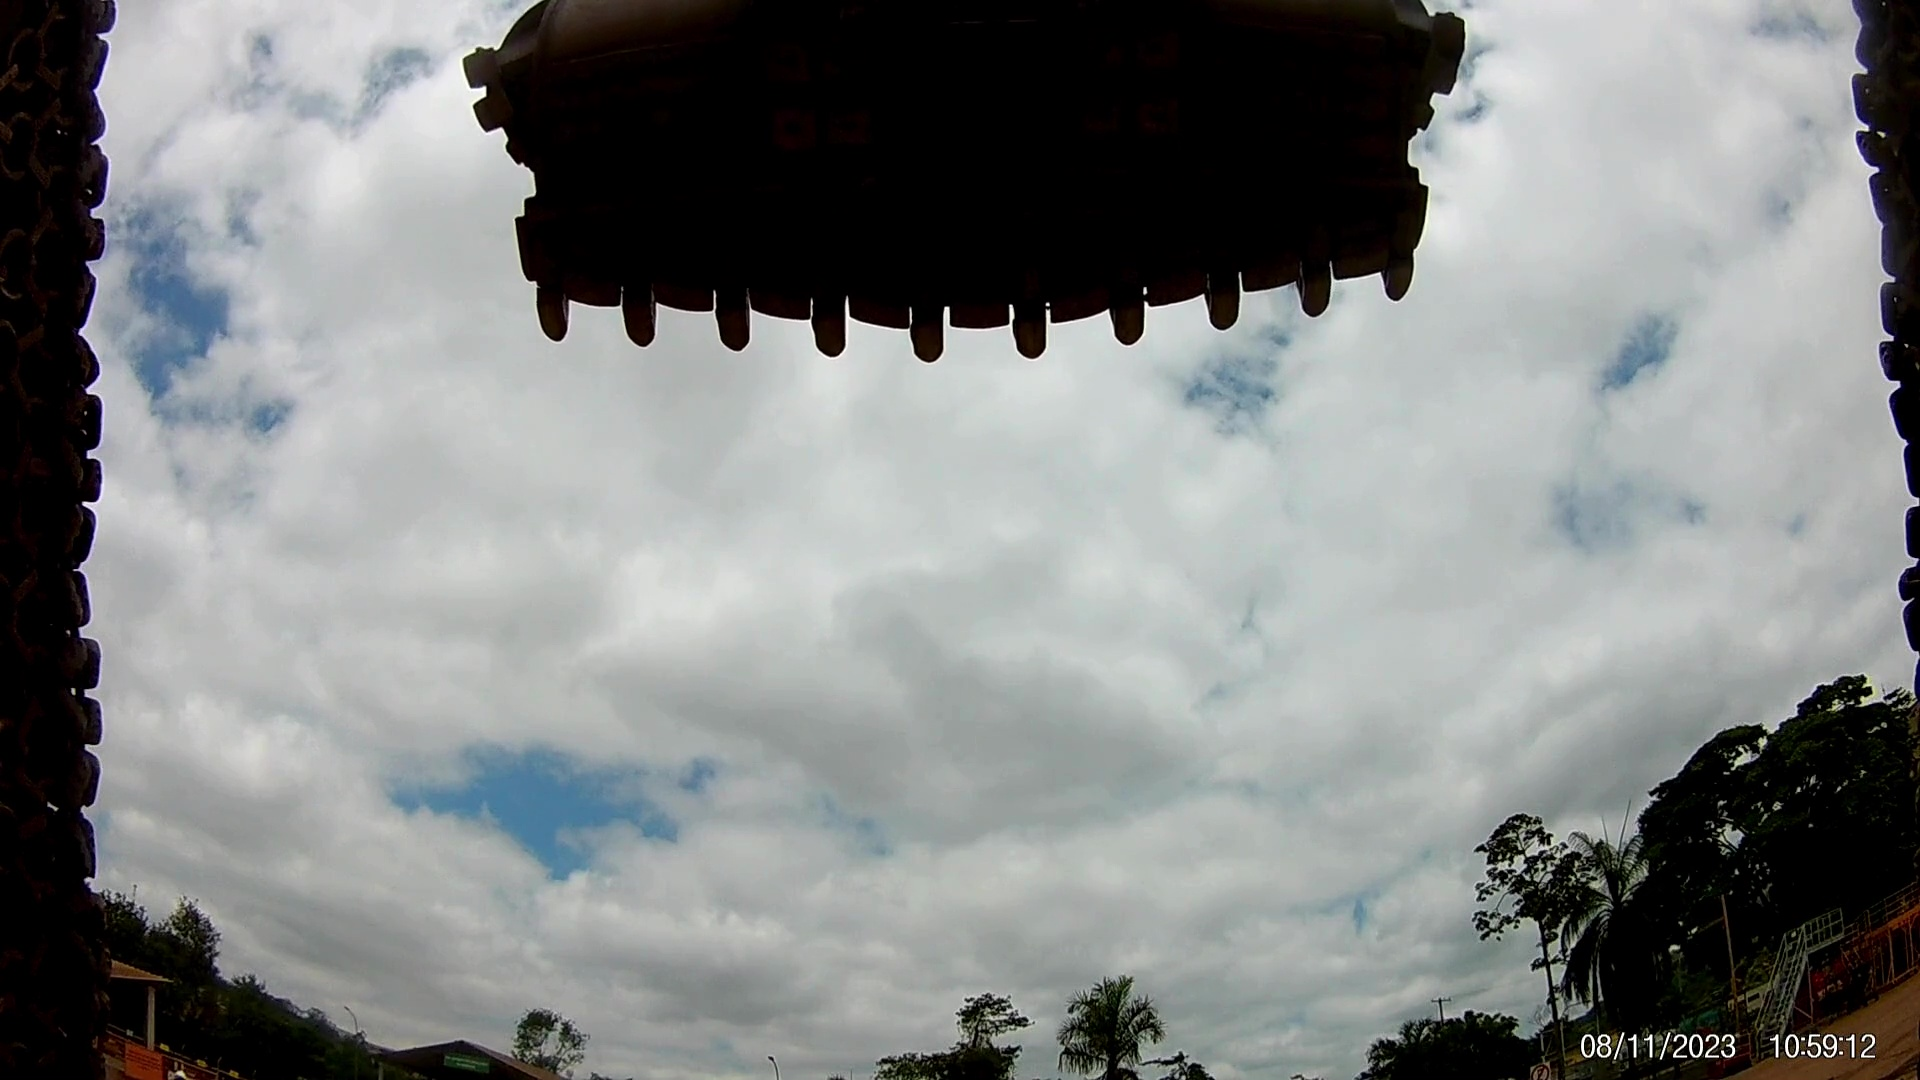FPS: (1220, 109, 1317, 186), (1147, 622, 1237, 695), (1185, 307, 1284, 372), (1137, 562, 1232, 618), (1170, 405, 1273, 455), (1149, 707, 1225, 771), (1142, 795, 1225, 845), (1208, 225, 1298, 272), (1168, 469, 1230, 531), (1149, 866, 1220, 916)
